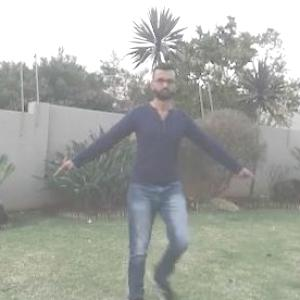land: (81, 82, 223, 256)
